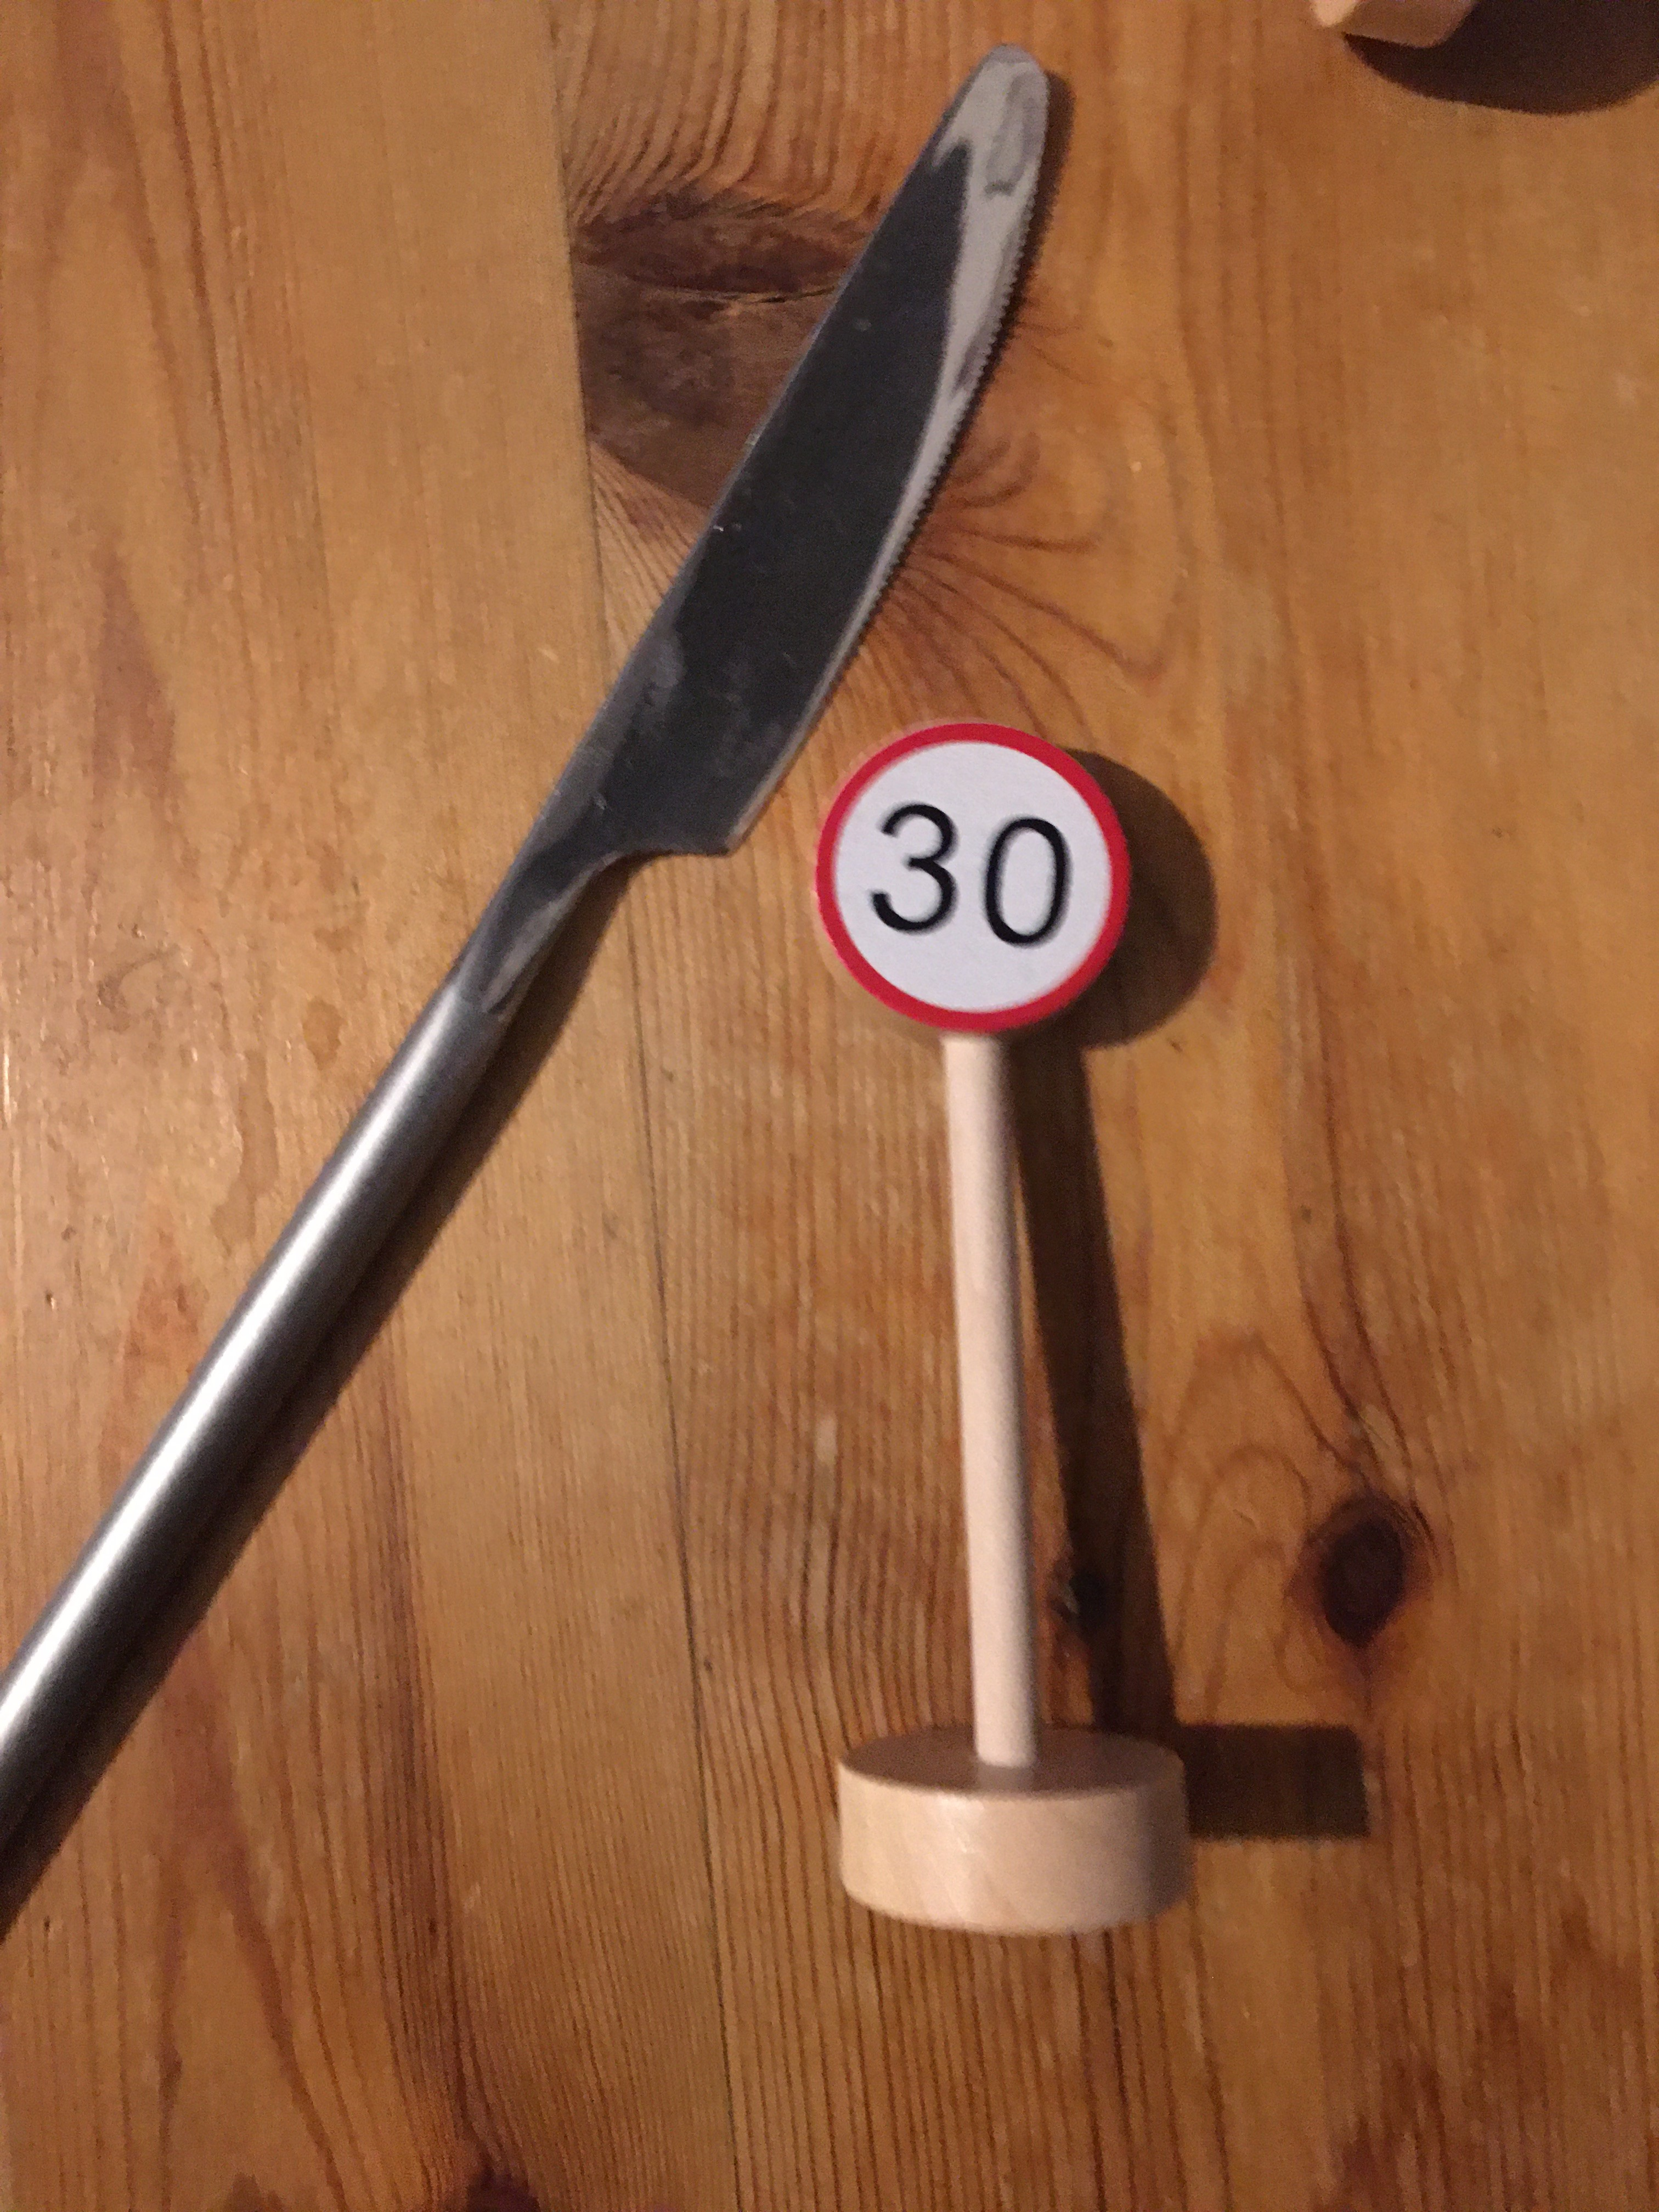Traffic_Sign_30: (809, 721, 1133, 1019)
